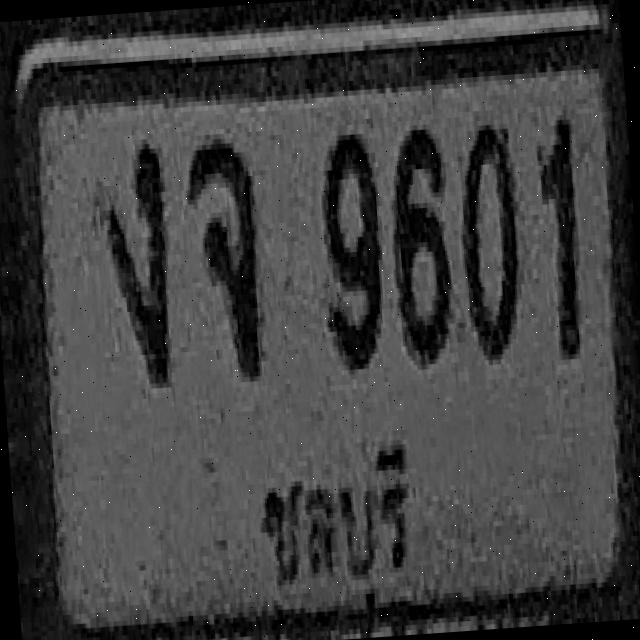0: (454, 115, 525, 358)
1: (535, 114, 585, 355)
16NgorNgu: (100, 137, 176, 386)
17ChorChan: (185, 136, 266, 380)
6: (386, 123, 456, 361)
9: (316, 127, 387, 370)
Chonburi: (246, 427, 418, 600)
